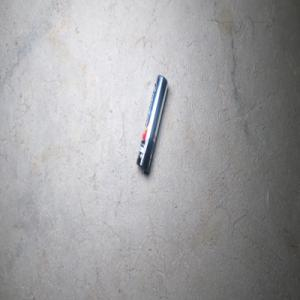Battery: (136, 73, 168, 173)
